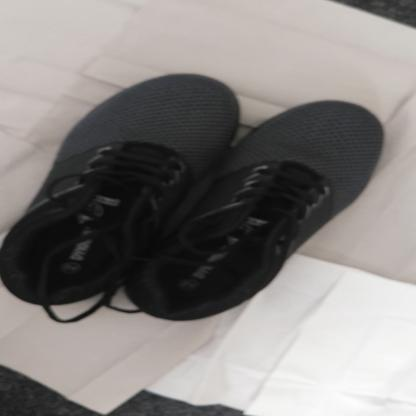safety-shoe: (3, 73, 386, 321)
